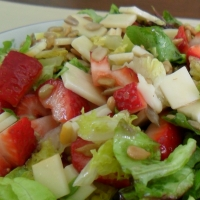chopped lettuce: (113, 121, 183, 195)
